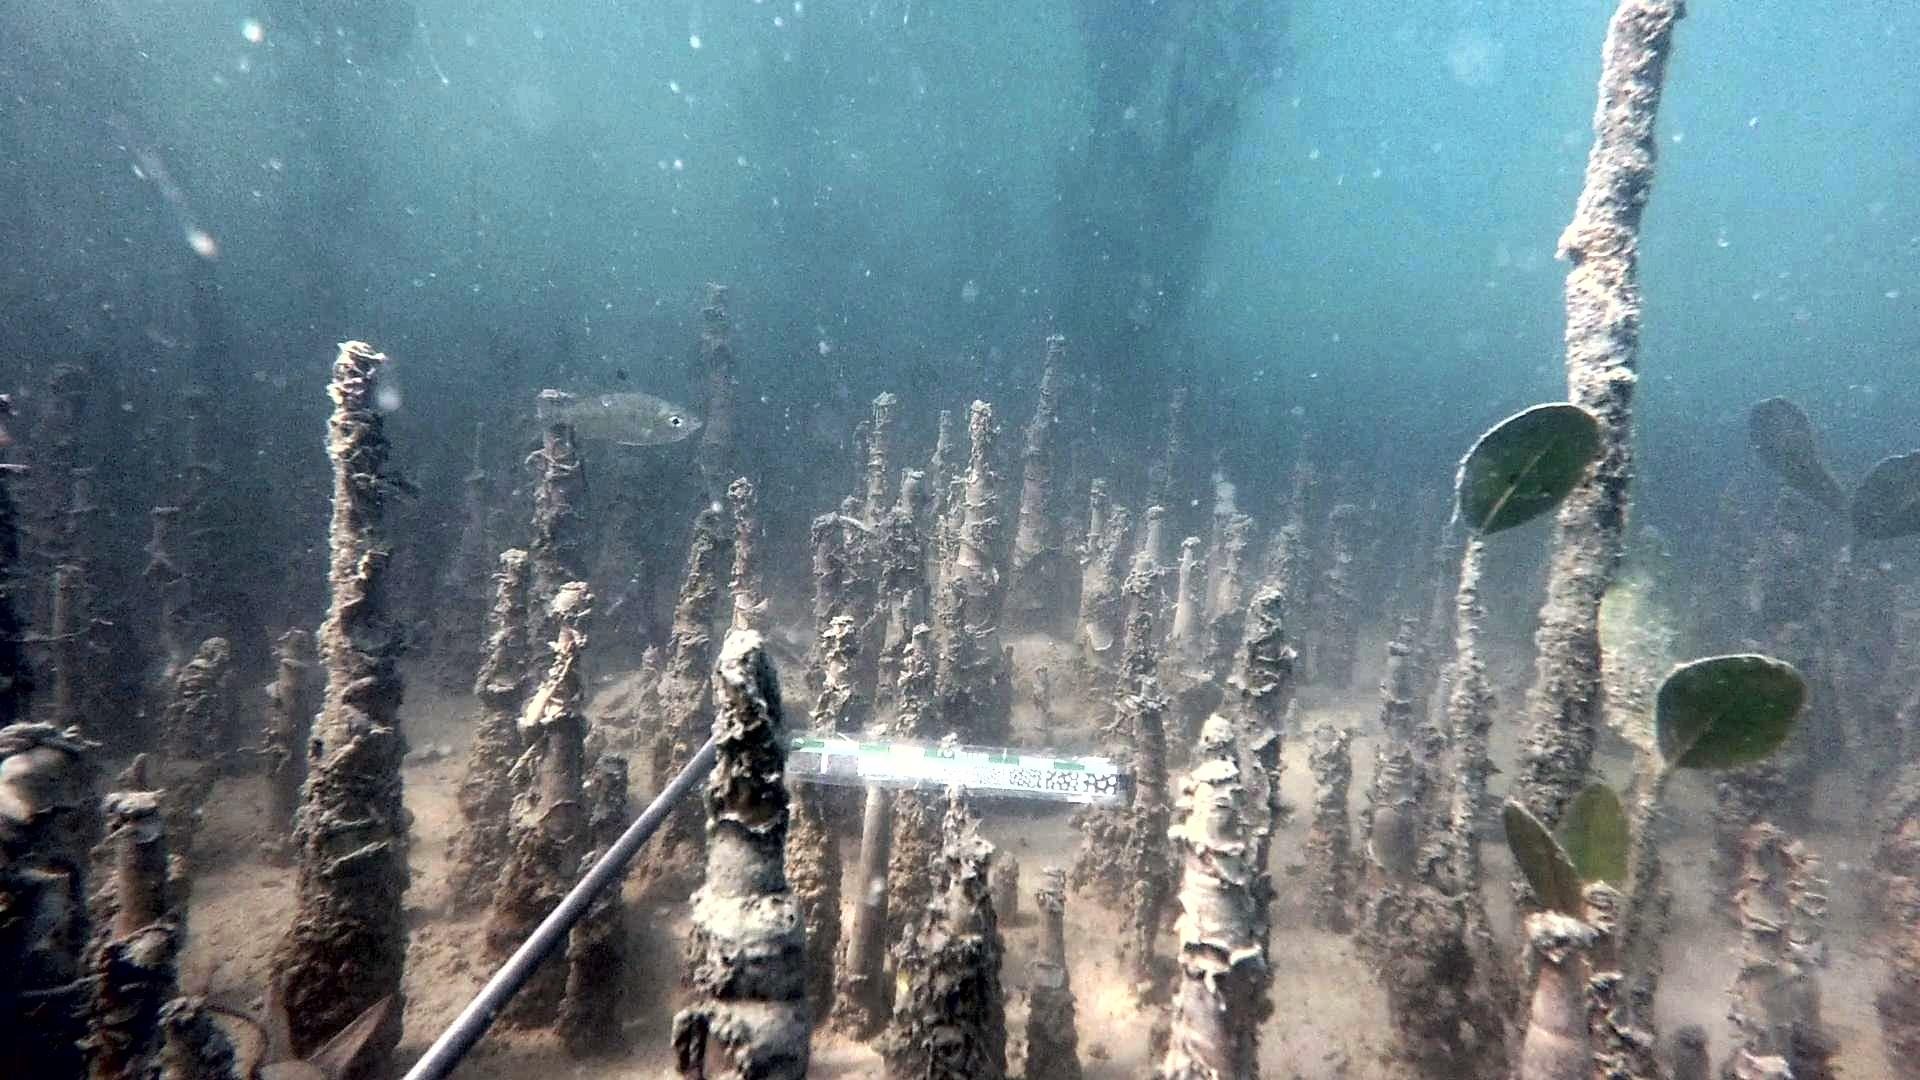gerres: (526, 367, 703, 450)
